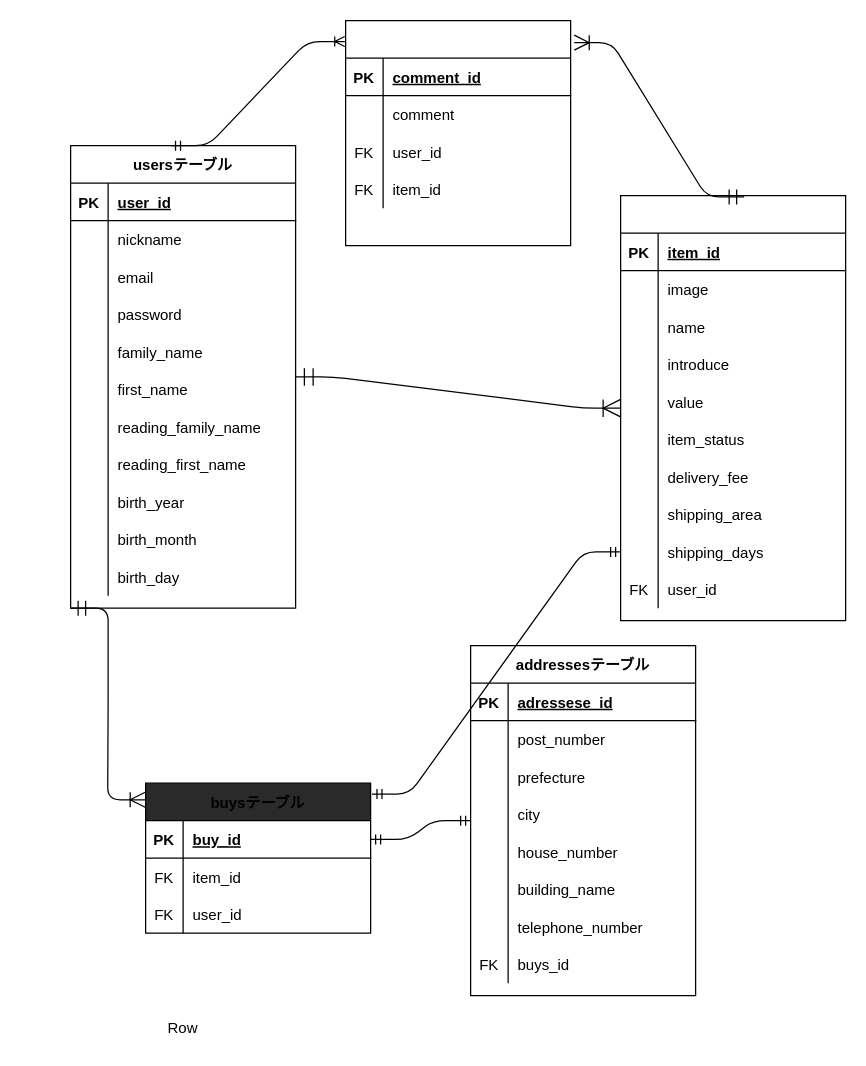
This 866x1066 diagram has some shape labels left out. The box of each missing label's shape, as (x1, y1, x2, y2) in pixels:
commentsテーブル: (344, 19, 571, 246)
itemsテーブル: (619, 194, 846, 621)
